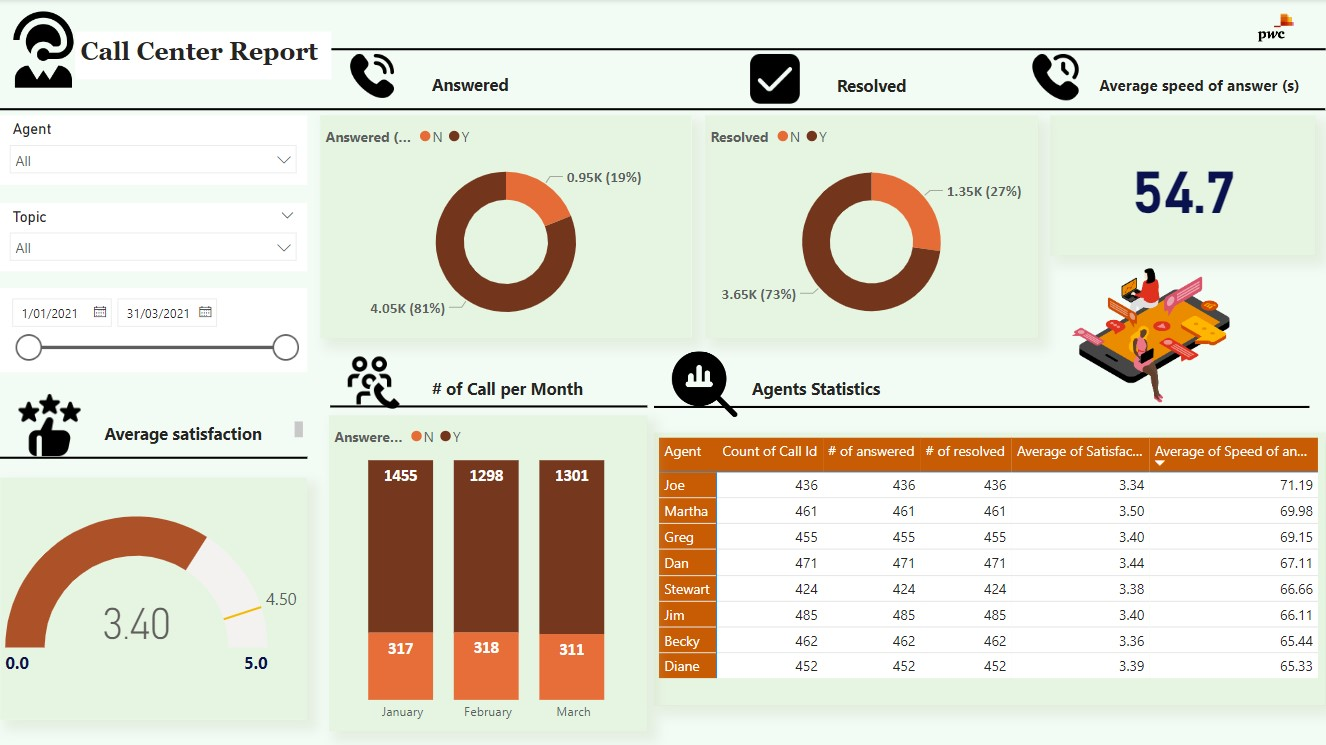

What the dashboard file says about the page in this screenshot:
{"tool":"powerbi","page":{"name":"Page 1","canvas":[1280,720],"ordinal":0},"visuals":[{"type":"card","title":"Average speed of answer in seconds","fields":{"Values":["Avg(Sheet1.Speed of answer in seconds)"]},"box":[1015,112.5,256.2,135],"z":0},{"type":"gauge","title":"Average satisfaction rate","fields":{"Y":["Avg(Sheet1.Satisfaction rating)"],"MaxValue":["Max(Sheet1.Satisfaction rating)"],"TargetValue":["Sheet1.Target satisfaction"]},"box":[1.4,462.4,296.4,233.3],"z":1000},{"type":"pivotTable","title":"# of calls by agent","fields":{"Rows":["Sheet1.Agent"],"Values":["CountNonNull(Sheet1.Call Id)","Sheet1.# of answered","Sheet1.# of resolved","Avg(Sheet1.Satisfaction rating)","Avg(Sheet1.Speed of answer in seconds)"]},"box":[632.6,418.5,647.7,263.5],"z":2000},{"type":"columnChart","title":"Resolved complains by Month ","fields":{"Category":["Sheet1.Date.Variation.Date Hierarchy.Month"],"Y":["CountNonNull(Sheet1.Call Id)"],"Series":["Sheet1.Answered (Y/N)"]},"box":[318.4,402.1,307.4,304.6],"z":3000},{"type":"donutChart","title":"# of Answered calls","fields":{"Y":["CountNonNull(Sheet1.Answered (Y/N))"],"Series":["Sheet1.Answered (Y/N)"]},"box":[310,112.5,358.8,215],"z":4000},{"type":"donutChart","title":"# of Answered calls","fields":{"Y":["CountNonNull(Sheet1.Resolved)"],"Series":["Sheet1.Resolved"]},"box":[681.2,112.5,321.2,215],"z":5000},{"type":"slicer","fields":{"Values":["Sheet1.Agent"]},"box":[0,112.5,297.5,67.5],"z":6000},{"type":"slicer","fields":{"Values":["Sheet1.Topic"]},"box":[0,196.2,297.5,66.2],"z":7000},{"type":"slicer","fields":{"Values":["Sheet1.Date"]},"box":[0,278.8,297.5,81.2],"z":8000},{"type":"textbox","box":[1056.2,67.5,223.8,31.2],"z":9000},{"type":"textbox","box":[803.8,67.5,171.2,31.2],"z":10000},{"type":"textbox","box":[412.4,66.3,253.9,31.6],"z":11000},{"type":"shape","box":[0,100,1280,12.5],"z":12000},{"type":"textbox","box":[96.1,403.4,201.7,31.6],"z":13000},{"type":"textbox","box":[413,359.5,212.7,31.6],"z":14000},{"type":"textbox","box":[721.8,359.5,253.9,31.6],"z":15000},{"type":"shape","box":[319.7,384.2,306,19.2],"z":16000},{"type":"shape","box":[0,433.1,298,19.3],"z":17000},{"type":"shape","box":[632.6,380.1,632.6,27.4],"z":18000},{"type":"image","box":[984.6,48.5,70,54.9],"z":19000},{"type":"image","box":[308.1,48.5,104.3,52.1],"z":20000},{"type":"image","box":[693.7,48.5,109.8,57.6],"z":21000},{"type":"image","box":[640.8,334.8,81,72.7],"z":22000},{"type":"image","box":[332.1,337.6,60.4,64.5],"z":23000},{"type":"image","box":[965,212.5,315,206.2],"z":24000},{"type":"shape","box":[297.5,42.5,982.5,12.5],"z":24500},{"type":"textbox","box":[73.8,31.2,247.5,46.2],"z":25000},{"type":"image","box":[1.4,376,94.7,70],"z":27000},{"type":"image","box":[1185,0,95,55],"z":28000},{"type":"image","box":[1.2,0,83.8,97.5],"z":29000}]}

Visuals, with their boxes in screenshot pixels (x1, y1, x2, y2), scaled from the page's 1280x720 canvas onto the 1326x745 screenshot:
"Average speed of answer in seconds" card: <box>1051,116,1317,256</box>
"Average satisfaction rate" gauge: <box>1,478,309,720</box>
"# of calls by agent" pivotTable: <box>655,433,1325,706</box>
"Resolved complains by Month " columnChart: <box>330,416,648,731</box>
"# of Answered calls" donutChart: <box>321,116,693,339</box>
"# of Answered calls" donutChart: <box>706,116,1038,339</box>
slicer - Sheet1.Agent: <box>0,116,308,186</box>
slicer - Sheet1.Topic: <box>0,203,308,272</box>
slicer - Sheet1.Date: <box>0,288,308,373</box>
textbox: <box>1094,70,1325,102</box>
textbox: <box>833,70,1010,102</box>
textbox: <box>427,69,690,101</box>
shape: <box>0,103,1325,116</box>
textbox: <box>100,417,309,450</box>
textbox: <box>428,372,648,405</box>
textbox: <box>748,372,1011,405</box>
shape: <box>331,398,648,417</box>
shape: <box>0,448,309,468</box>
shape: <box>655,393,1311,422</box>
image: <box>1020,50,1092,107</box>
image: <box>319,50,427,104</box>
image: <box>719,50,832,110</box>
image: <box>664,346,748,422</box>
image: <box>344,349,407,416</box>
image: <box>1000,220,1325,433</box>
shape: <box>308,44,1325,57</box>
textbox: <box>76,32,333,80</box>
image: <box>1,389,100,461</box>
image: <box>1228,0,1325,57</box>
image: <box>1,0,88,101</box>
